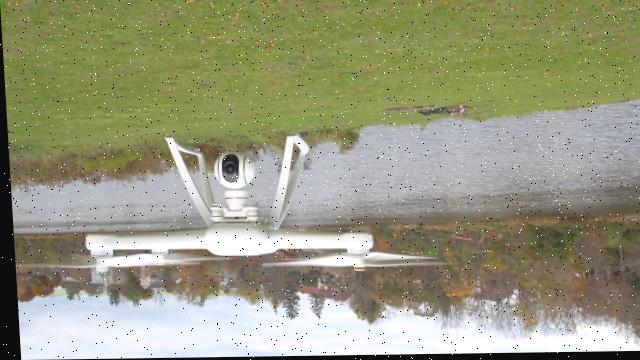drone: (41, 123, 450, 286)
